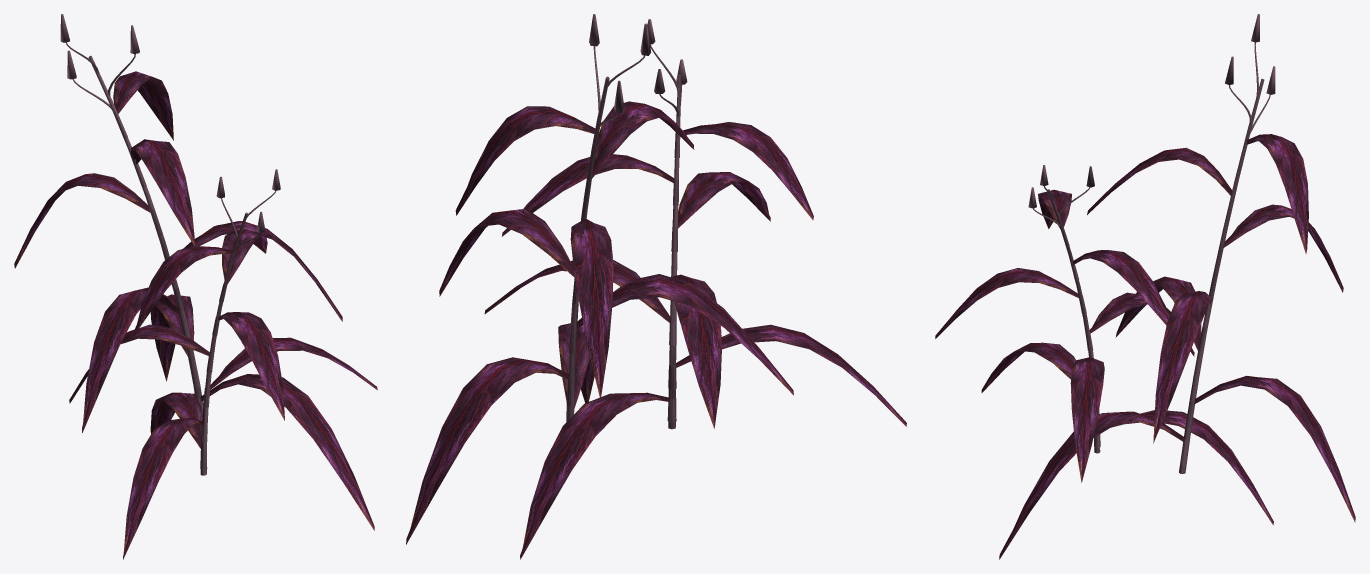
Rendered from finegrass_03.glb.
3 views of the same model, side by side, from view 1: azimuth 30°, elevation 25°; view 2: azimuth 150°, elevation 25°; view 3: azimuth 270°, elevation 25° (orthographic). The views are drawn at different scales.
Parts seen in each view (by area): view 1: export; view 2: export; view 3: export.
Part boxes in pixels (left/top/right/bottom): export: left=14, top=14, right=377, bottom=559; export: left=406, top=14, right=906, bottom=559; export: left=935, top=14, right=1355, bottom=559.
Bounding box in the file's own units: 0.8186 × 1.2 × 0.985.
2 materials, 2 textured.
